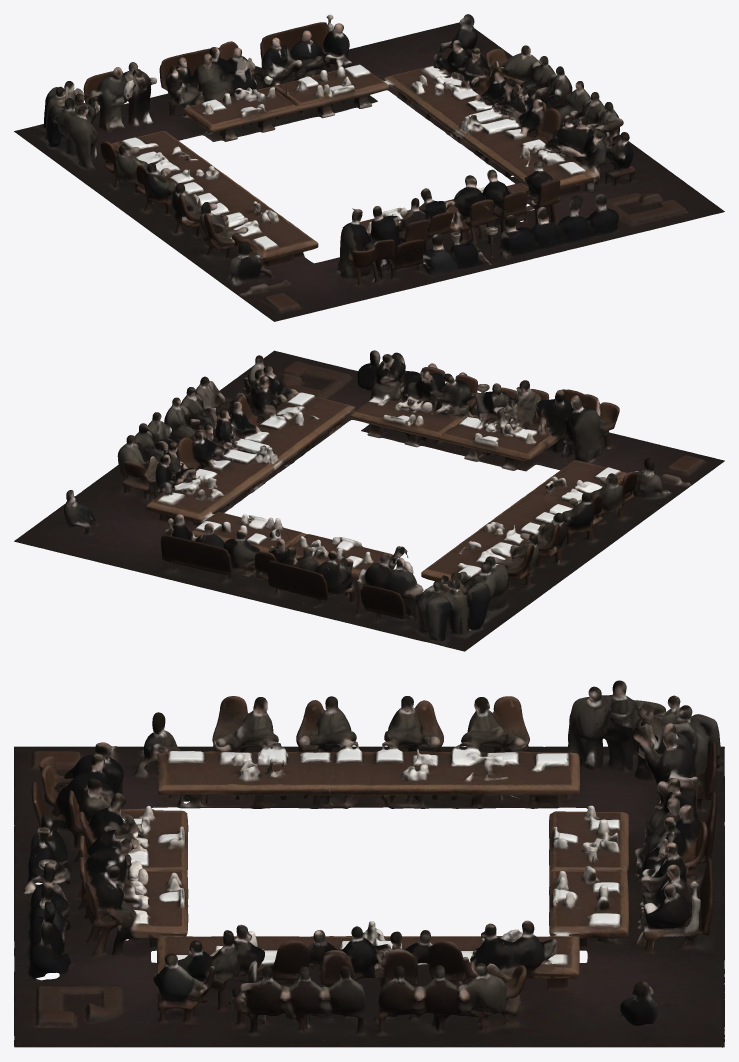
Rendered from gie ne ve.glb.
3 renders of one model, top to bottom at view 1: azimuth 30°, elevation 25°; view 2: azimuth 150°, elevation 25°; view 3: azimuth 270°, elevation 25°, orthographic. The views are drawn at different scales.
Bounding box in the file's own units: 1.9 × 0.2471 × 1.9.
Materials: 1 (1 with a texture image).
